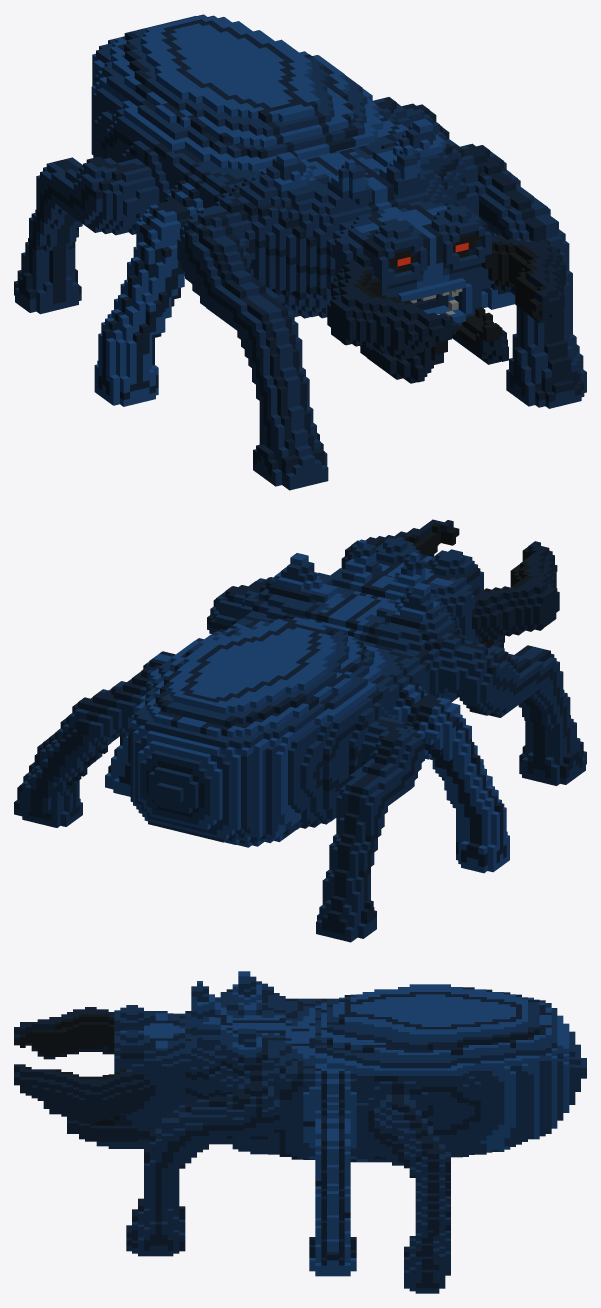
The model's file is beetle_walk_blue_v2-5.obj.
3 views of the same model, one above another, from view 1: azimuth 30°, elevation 25°; view 2: azimuth 150°, elevation 25°; view 3: azimuth 270°, elevation 25° (orthographic). The views are drawn at different scales.
Bounding box in the file's own units: 7.2 × 3.7 × 9.7.
Materials: 1 (1 with a texture image).
